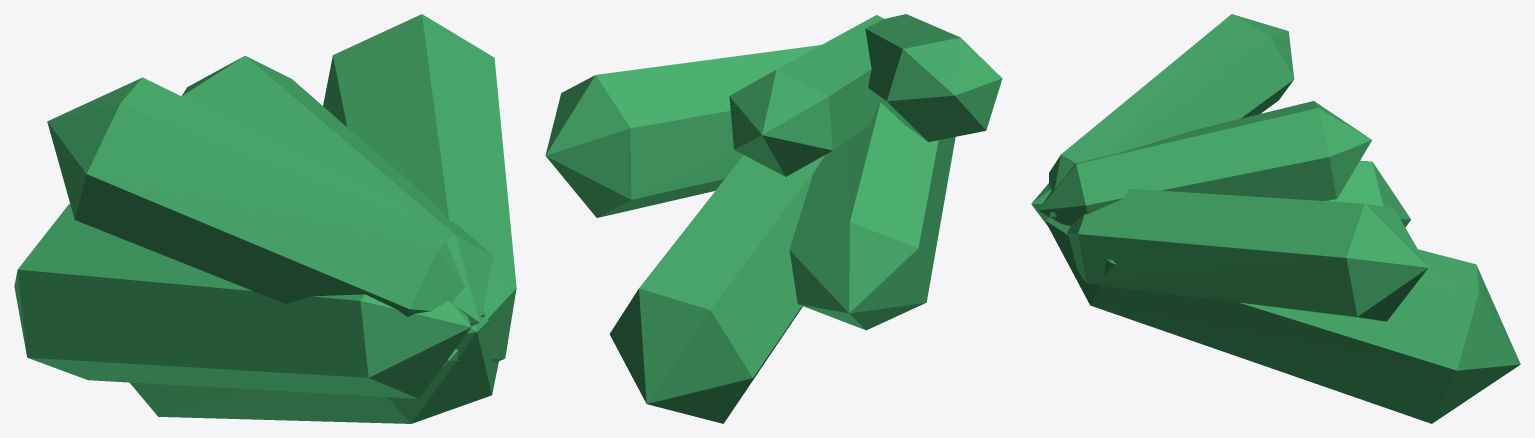
The model's file is EmraldGem.fbx.
The picture shows the model from 3 angles, left to right: view 1: azimuth 30°, elevation 25°; view 2: azimuth 150°, elevation 25°; view 3: azimuth 270°, elevation 25°; orthographic projection. The views are drawn at different scales.
Parts seen in each view (by area): view 1: Spindle003; view 2: Spindle003; view 3: Spindle003.
Boxes of the visible parts, box(x1,y1,x2,y2) form: Spindle003: box(14, 14, 516, 423); Spindle003: box(545, 14, 1002, 423); Spindle003: box(1031, 14, 1520, 423).
Size of the model in its own units: 0.2131 by 0.1872 by 0.2577.
1 material, 1 textured.
